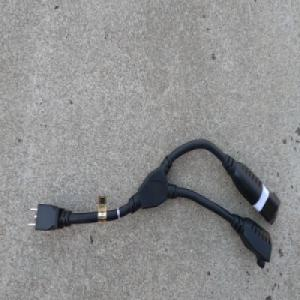Wire: (25, 137, 281, 268)
